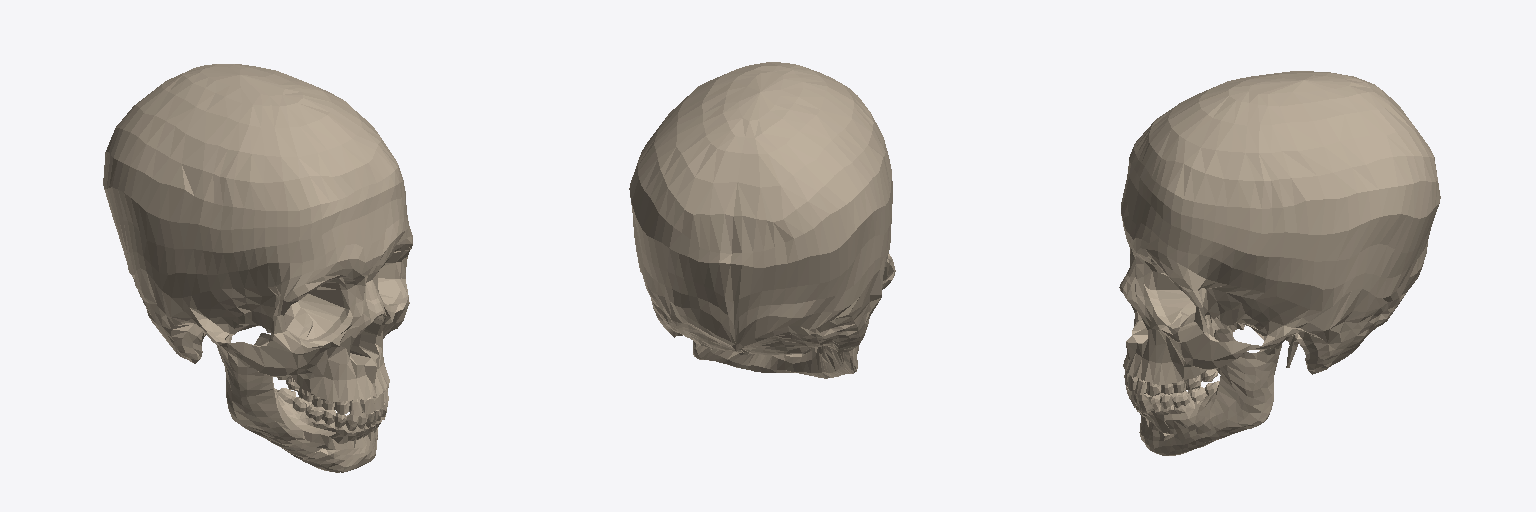
The model's file is skull.obj.
3 renders of one model, left to right at view 1: azimuth 30°, elevation 25°; view 2: azimuth 150°, elevation 25°; view 3: azimuth 270°, elevation 25°, orthographic.
Visible parts, largest first — view 1: skull; view 2: skull; view 3: skull.
Part boxes in pixels (bbox=[...]): skull: bbox=[103, 64, 412, 472]; skull: bbox=[629, 62, 895, 378]; skull: bbox=[1119, 71, 1440, 455].
Bounding box in the file's own units: 5.23 × 7.32 × 6.14.